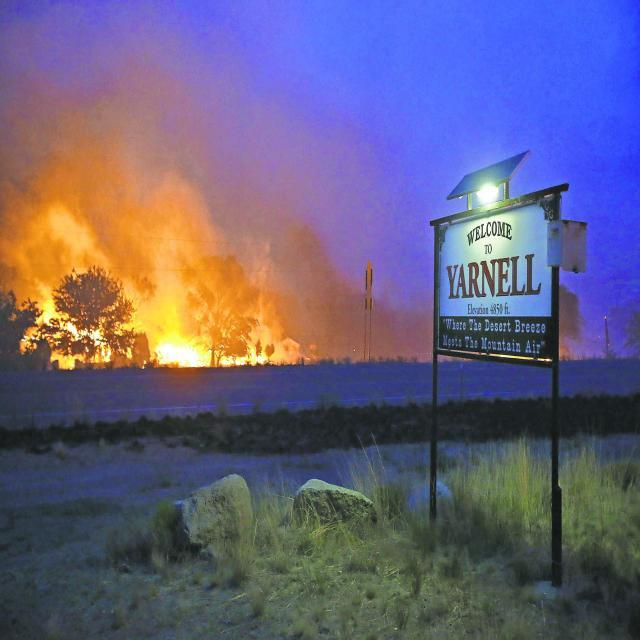Fire: (0, 315, 325, 398)
Smoke: (0, 0, 485, 370)
